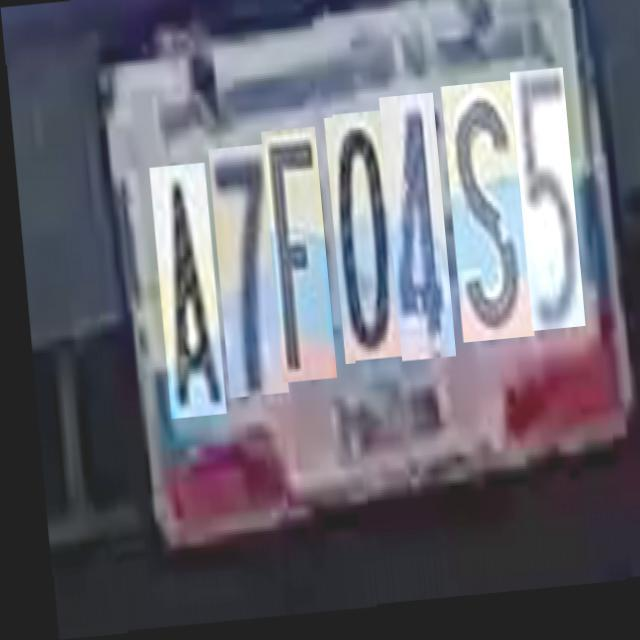4: (376, 101, 448, 369)
5: (508, 78, 578, 340)
7: (205, 146, 281, 400)
A: (146, 164, 218, 419)
F: (258, 130, 330, 385)
O: (321, 118, 396, 368)
S: (438, 90, 528, 352)
